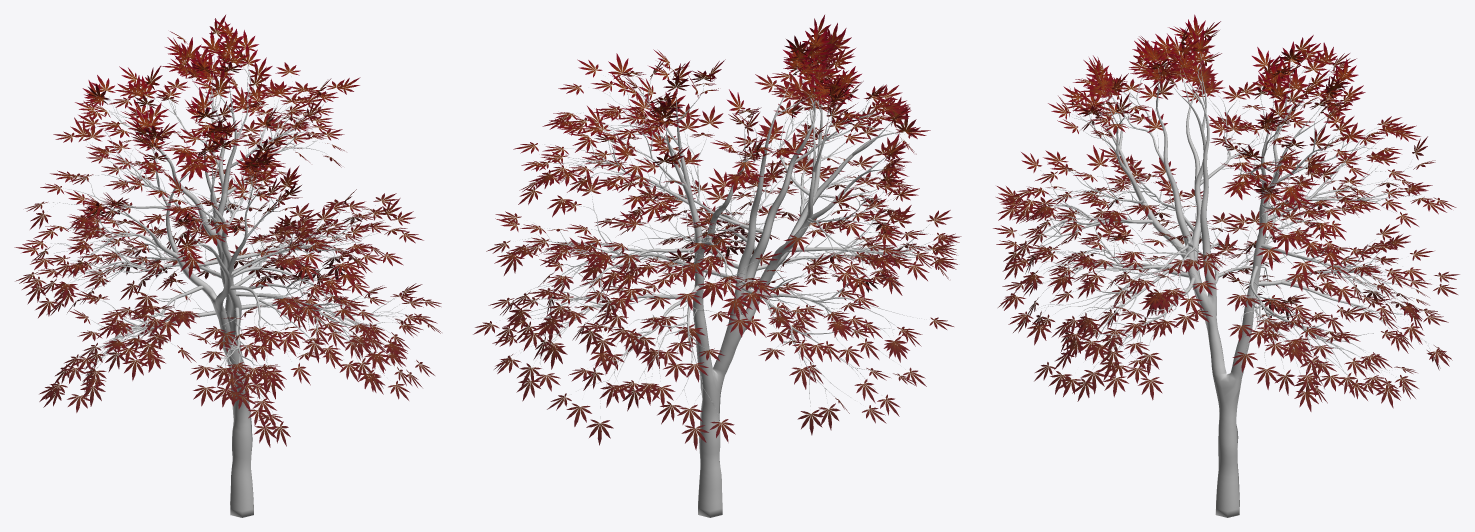
3 views of the same model, side by side, from view 1: azimuth 30°, elevation 25°; view 2: azimuth 150°, elevation 25°; view 3: azimuth 270°, elevation 25° (orthographic). The views are drawn at different scales.
Parts seen in each view (by area): view 1: leaves, tree trunk; view 2: leaves, tree trunk; view 3: leaves, tree trunk.
Part boxes in pixels (left/top/right/bottom): leaves: left=14, top=15, right=441, bottom=447; tree trunk: left=45, top=47, right=420, bottom=517; leaves: left=473, top=15, right=961, bottom=450; tree trunk: left=500, top=57, right=936, bottom=517; leaves: left=993, top=14, right=1459, bottom=411; tree trunk: left=1019, top=51, right=1429, bottom=517.
Bounding box in the file's own units: 3.49 × 3.96 × 3.67.
